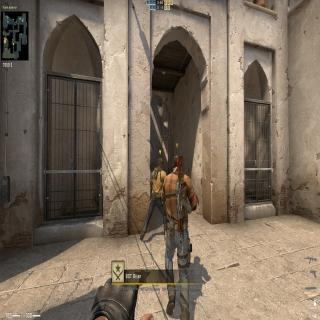T-Head: (156, 157, 166, 170), (172, 156, 180, 170)
